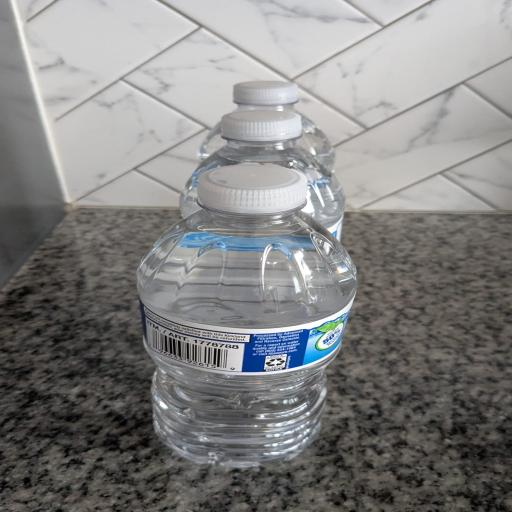waterbottle: (138, 165, 356, 467), (180, 111, 345, 238), (233, 82, 335, 168)
